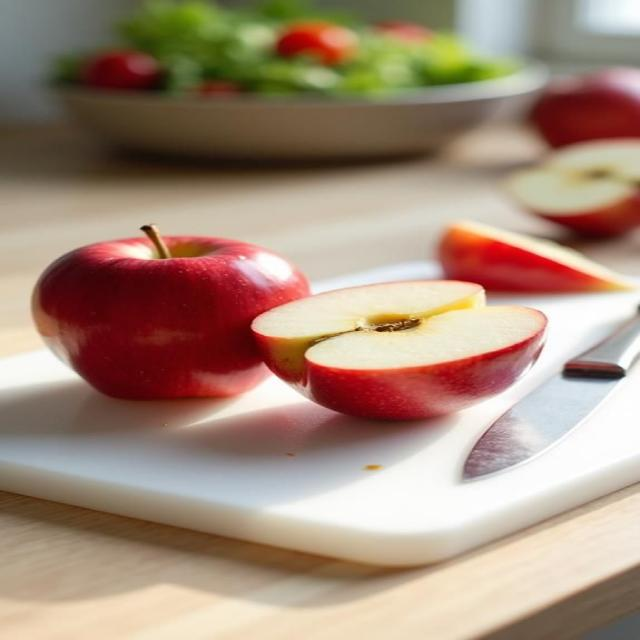apple: (33, 226, 309, 398), (252, 281, 546, 419), (439, 222, 634, 292), (506, 139, 639, 236), (530, 68, 639, 146), (376, 21, 434, 41)
